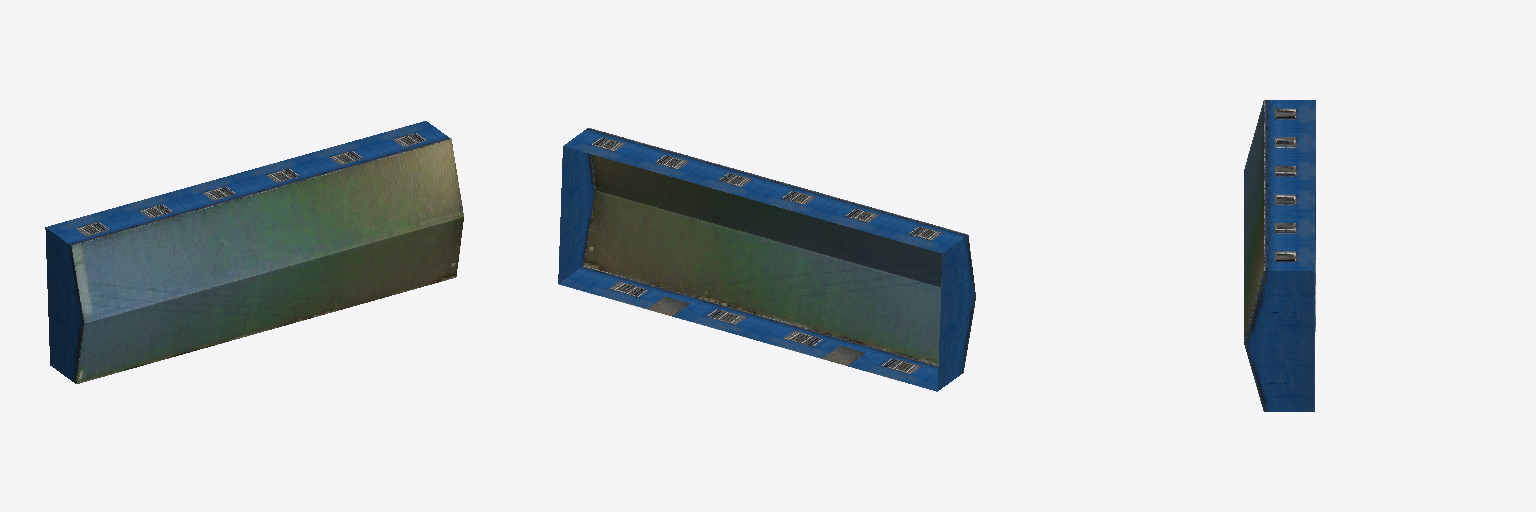
The picture shows the model from 3 angles: view 1: azimuth 30°, elevation 25°; view 2: azimuth 150°, elevation 25°; view 3: azimuth 270°, elevation 25°; orthographic projection.
Parts seen in each view (by area): view 1: Group_MatrixTransform_i96173_Geometry_3, Group_MatrixTransform_i96173_Geometry_0, Group_MatrixTransform_i96173_Geometry_1; view 2: Group_MatrixTransform_i96173_Geometry_3, Group_MatrixTransform_i96173_Geometry_0, Group_MatrixTransform_i96173_Geometry_2, Group_MatrixTransform_i96173_Geometry_1; view 3: Group_MatrixTransform_i96173_Geometry_0, Group_MatrixTransform_i96173_Geometry_1, Group_MatrixTransform_i96173_Geometry_3.
Boxes of the visible parts, x1,y1,x2,y2 form: Group_MatrixTransform_i96173_Geometry_3: [72, 139, 463, 383]; Group_MatrixTransform_i96173_Geometry_0: [46, 121, 450, 245]; Group_MatrixTransform_i96173_Geometry_1: [45, 227, 83, 383]; Group_MatrixTransform_i96173_Geometry_3: [584, 155, 941, 364]; Group_MatrixTransform_i96173_Geometry_0: [564, 128, 967, 253]; Group_MatrixTransform_i96173_Geometry_2: [559, 266, 937, 391]; Group_MatrixTransform_i96173_Geometry_1: [558, 146, 975, 390]; Group_MatrixTransform_i96173_Geometry_0: [1264, 100, 1315, 270]; Group_MatrixTransform_i96173_Geometry_1: [1244, 190, 1315, 411]; Group_MatrixTransform_i96173_Geometry_3: [1244, 101, 1263, 339].
Size of the model in its own units: 30.64 by 11.68 by 5.
4 materials, 4 textured.